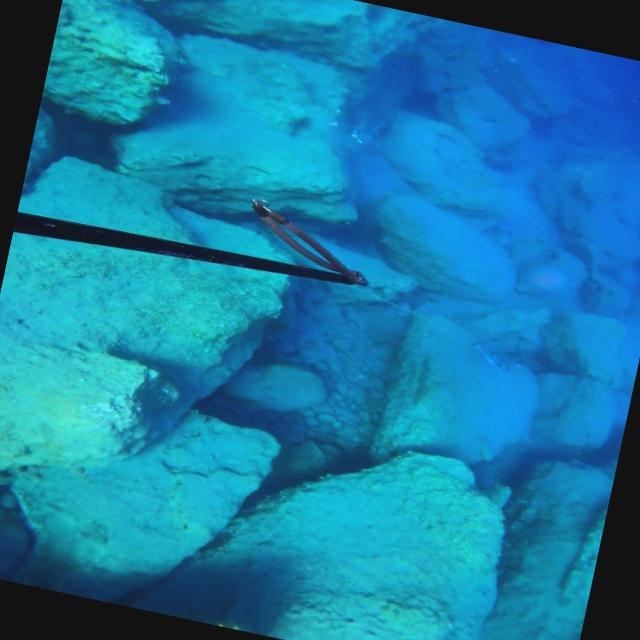Balon Baligi: (464, 339, 512, 372)
